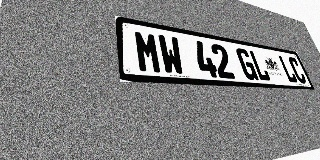2: (210, 43, 235, 79)
4: (192, 40, 219, 78)
C: (287, 56, 308, 84)
G: (235, 47, 259, 80)
L: (248, 50, 271, 81), (277, 55, 299, 83)
M: (133, 30, 163, 74)
W: (157, 34, 186, 76)
